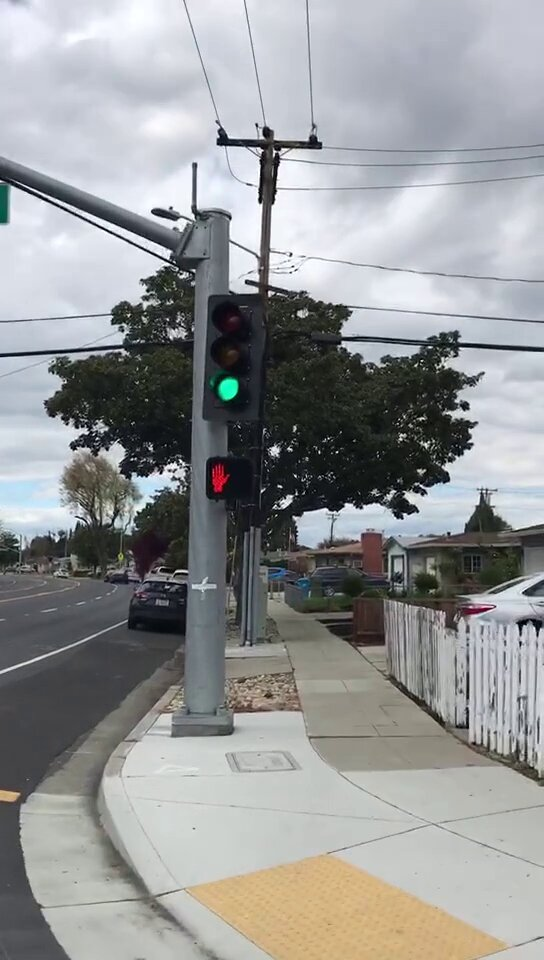green_light: (208, 295, 260, 422)
